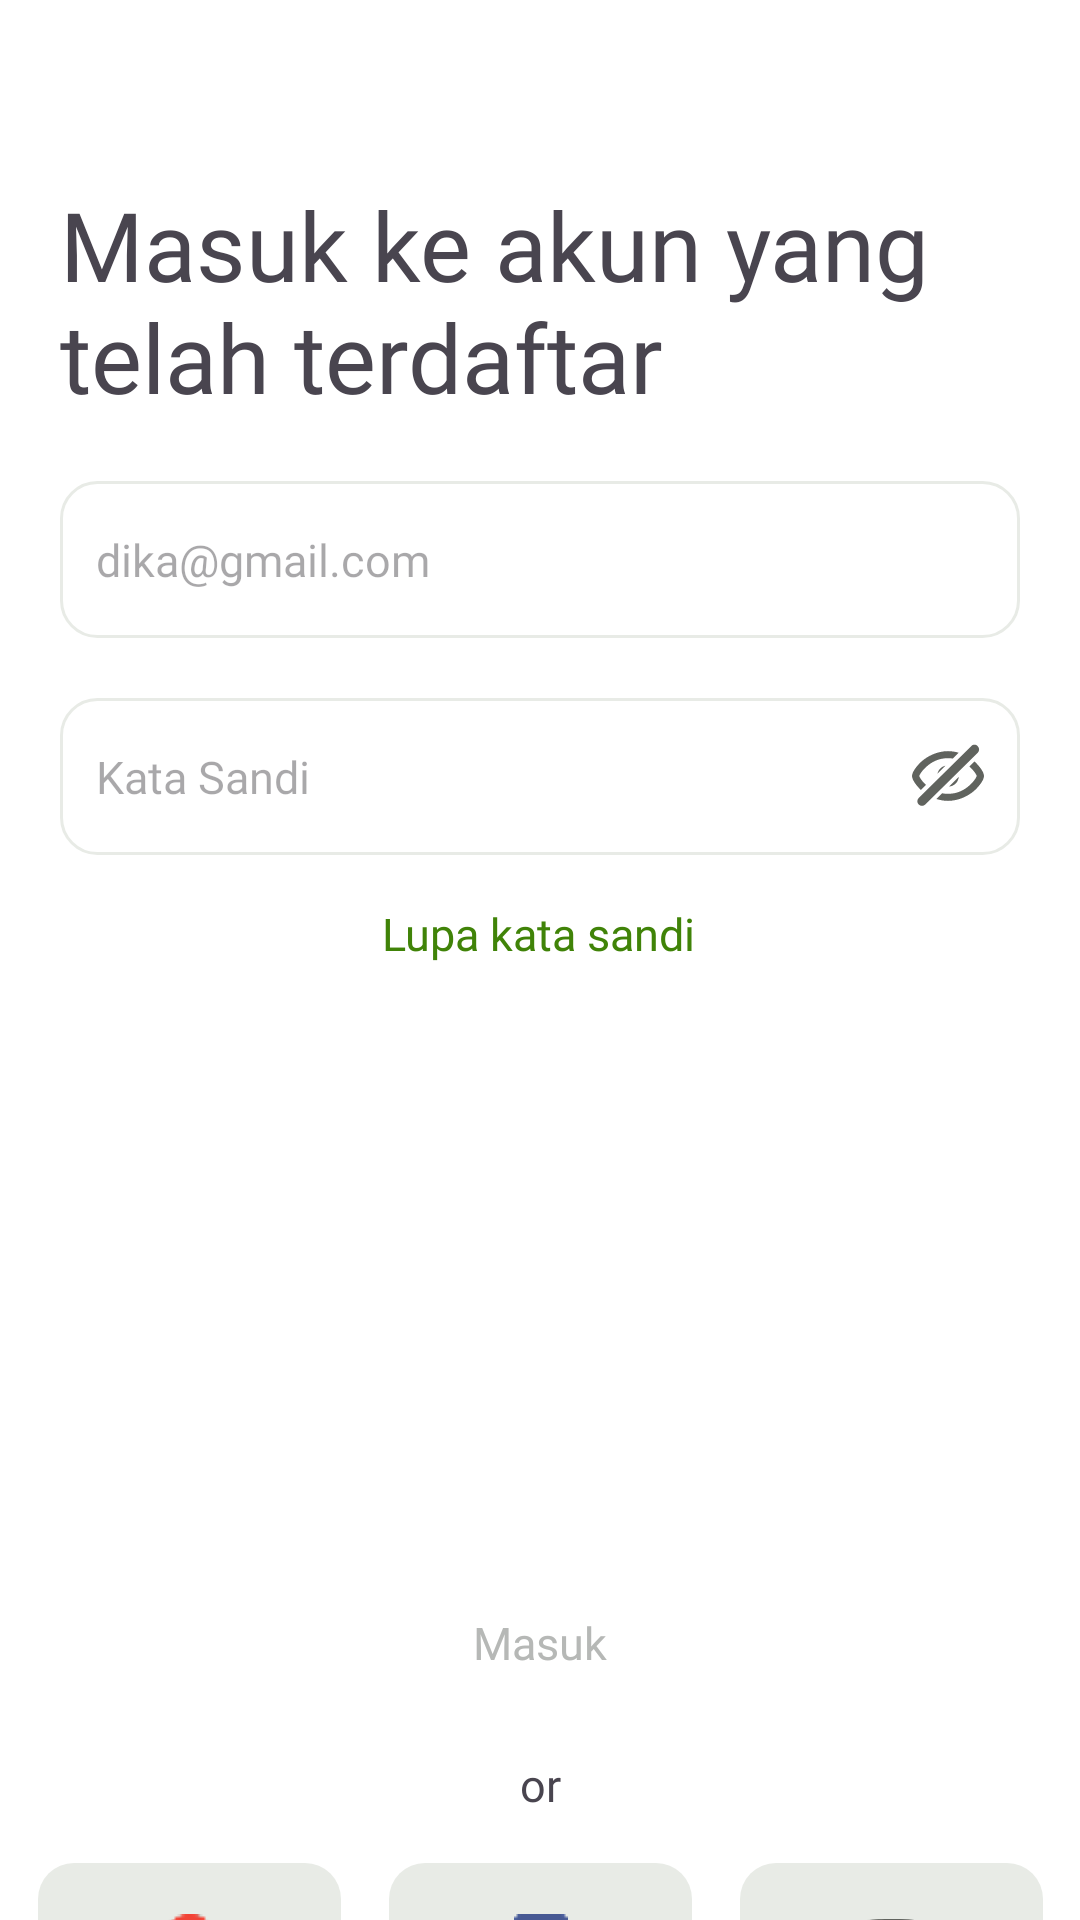

Named icons in this screenshot (1080x1920) and their centers, (x=x, y=y):
eye closed: (x=948, y=775)
